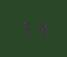four: (33, 19, 46, 37)
seven: (19, 19, 32, 36)
